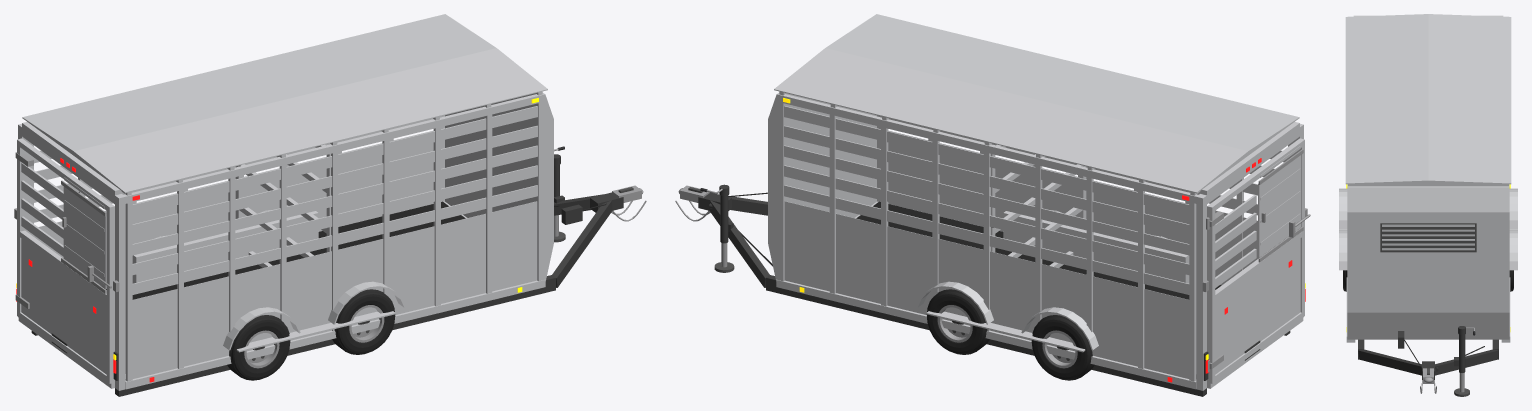
The model's file is stock_trailer.glb.
3 views of the same model, side by side, from view 1: azimuth 30°, elevation 25°; view 2: azimuth 150°, elevation 25°; view 3: azimuth 270°, elevation 25° (orthographic). The views are drawn at different scales.
Parts seen in each view (by area): view 1: chassis, rear_gate_rotate, rear_gate_slider_slide, wheel_rear_right_spin, wheel_front_right_spin, center_gate_rotate; view 2: chassis, rear_gate_rotate, rear_gate_slider_slide, wheel_rear_left_spin, wheel_front_left_spin, center_gate_rotate; view 3: chassis, jack_leg_lift.
Part boxes in pixels (x1=…): chassis: x1=14, y1=14, x2=646, y2=396; rear_gate_rotate: x1=15, y1=138, x2=114, y2=383; rear_gate_slider_slide: x1=62, y1=177, x2=106, y2=289; wheel_rear_right_spin: x1=227, y1=315, x2=290, y2=380; wheel_front_right_spin: x1=332, y1=289, x2=395, y2=354; center_gate_rotate: x1=235, y1=144, x2=330, y2=267; chassis: x1=675, y1=14, x2=1307, y2=396; rear_gate_rotate: x1=1206, y1=138, x2=1310, y2=383; rear_gate_slider_slide: x1=1258, y1=146, x2=1301, y2=257; wheel_rear_left_spin: x1=1031, y1=315, x2=1094, y2=380; wheel_front_left_spin: x1=926, y1=289, x2=989, y2=354; center_gate_rotate: x1=991, y1=144, x2=1086, y2=267; chassis: x1=1339, y1=14, x2=1517, y2=393; jack_leg_lift: x1=1454, y1=372, x2=1469, y2=396.
Size of the model in its own units: 6.79 by 2.5 by 2.23.
Materials: 10 (10 with a texture image).
